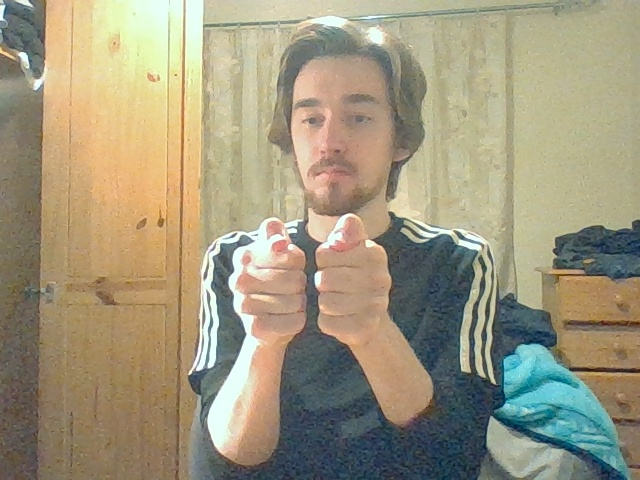brother: (228, 212, 393, 341)
